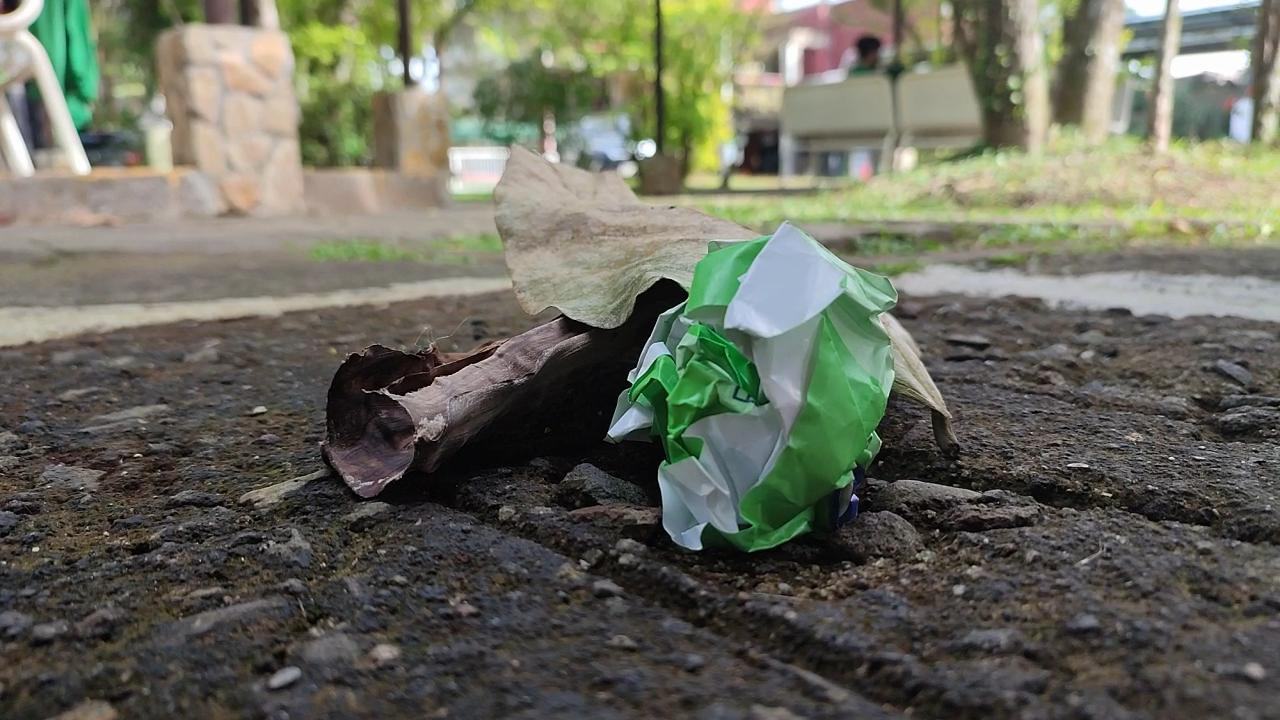Paper: (604, 191, 905, 580)
